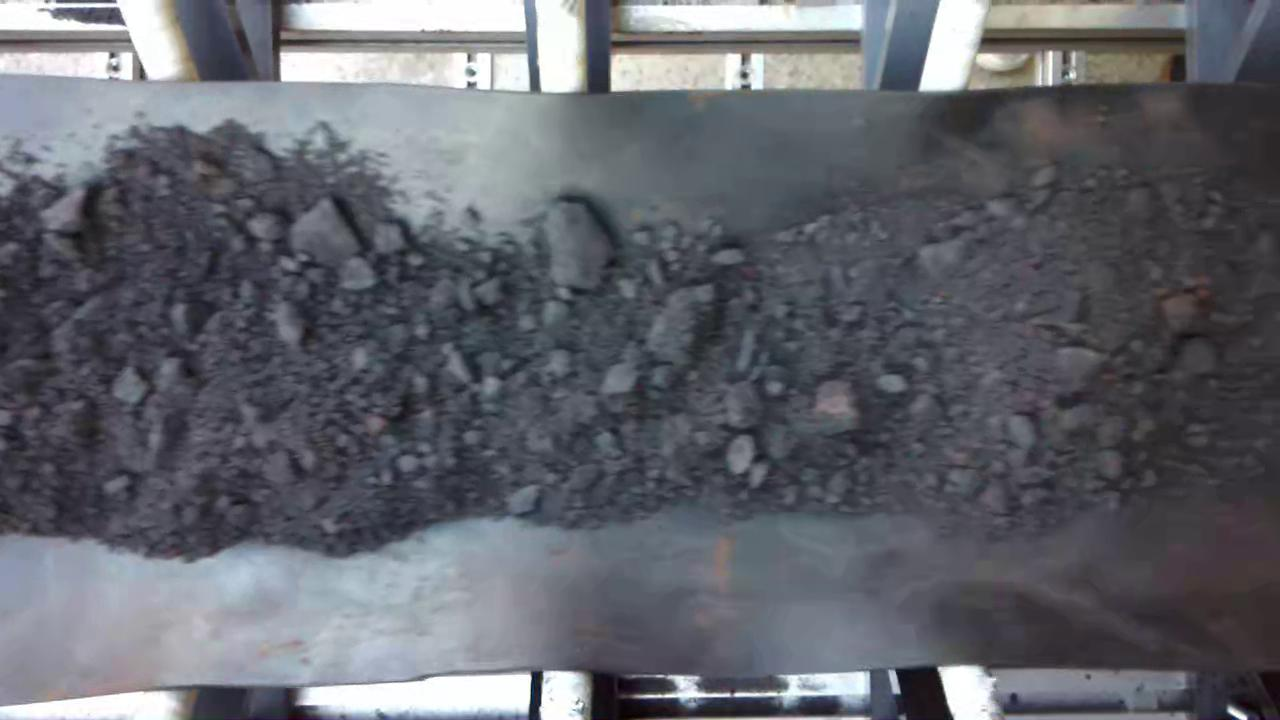conveyor: (1, 94, 1280, 661)
